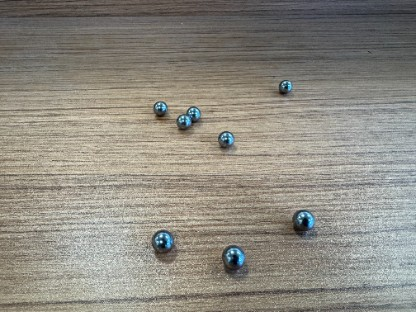ironball: (221, 244, 245, 269), (292, 209, 315, 231), (151, 230, 173, 252), (217, 131, 234, 147), (176, 114, 191, 130), (186, 106, 200, 122), (153, 101, 167, 115), (278, 80, 292, 93)
